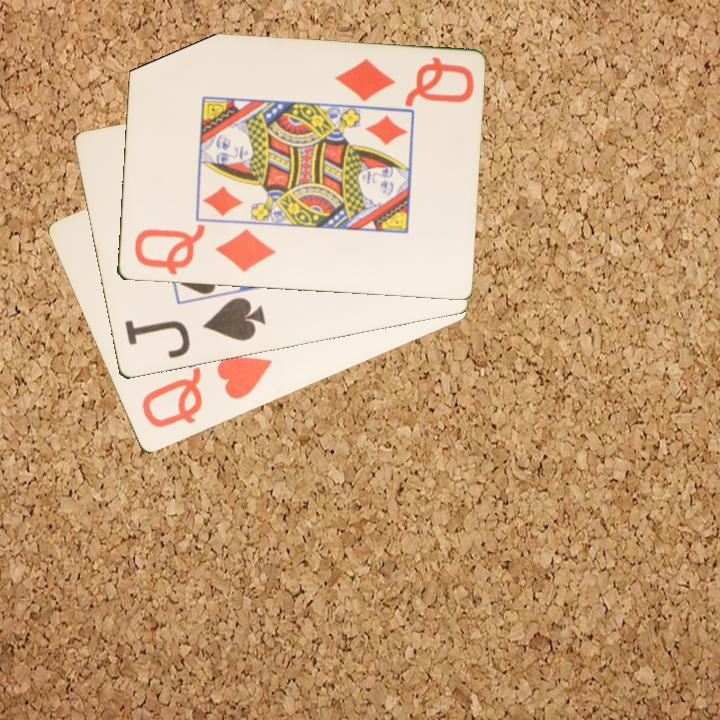Js: (121, 294, 268, 362)
Qd: (130, 222, 278, 278), (330, 54, 478, 108)
Qh: (138, 352, 275, 432)
